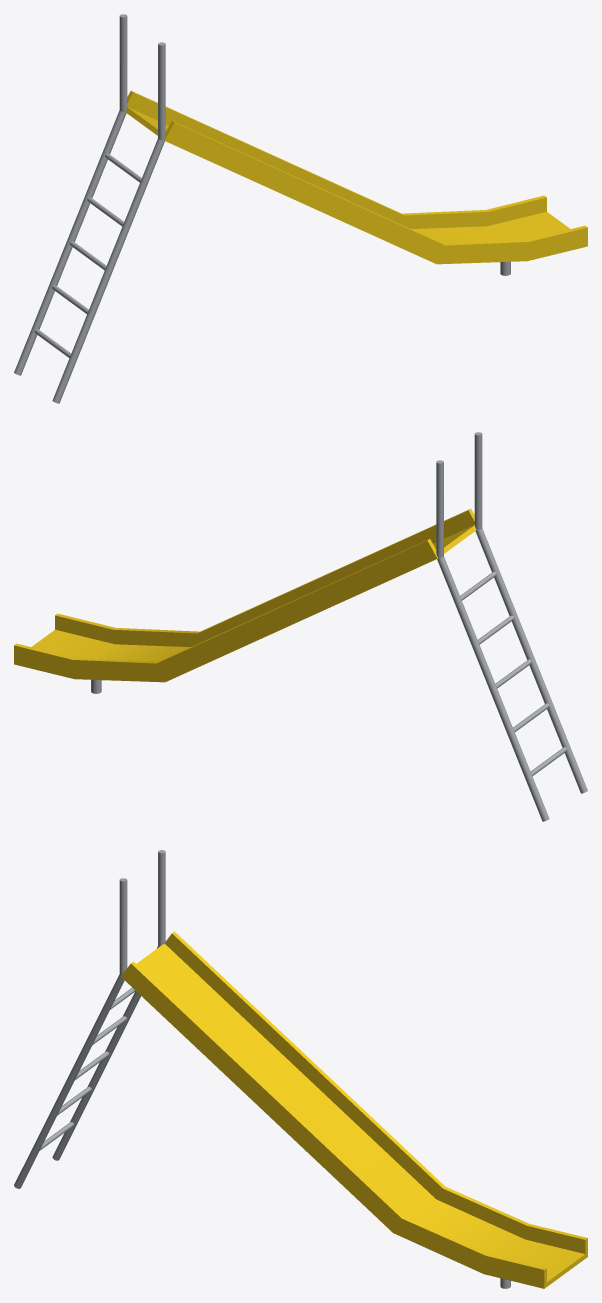
The model's file is school.play.slide.glb.
3 views of the same model, one above another, from view 1: azimuth 30°, elevation 25°; view 2: azimuth 150°, elevation 25°; view 3: azimuth 330°, elevation 25° (orthographic).
Parts seen in each view (by area): view 1: main__plastic_yellow, main__steel_galvanised; view 2: main__plastic_yellow, main__steel_galvanised; view 3: main__plastic_yellow, main__steel_galvanised.
Boxes of the visible parts, x1,y1,x2,y2 form: main__plastic_yellow: (125, 91, 587, 264); main__steel_galvanised: (14, 14, 510, 403); main__plastic_yellow: (14, 509, 476, 682); main__steel_galvanised: (91, 432, 587, 821); main__plastic_yellow: (121, 931, 587, 1288); main__steel_galvanised: (14, 850, 510, 1288).
Bounding box in the file's own units: 3.52 × 2.11 × 0.5.
